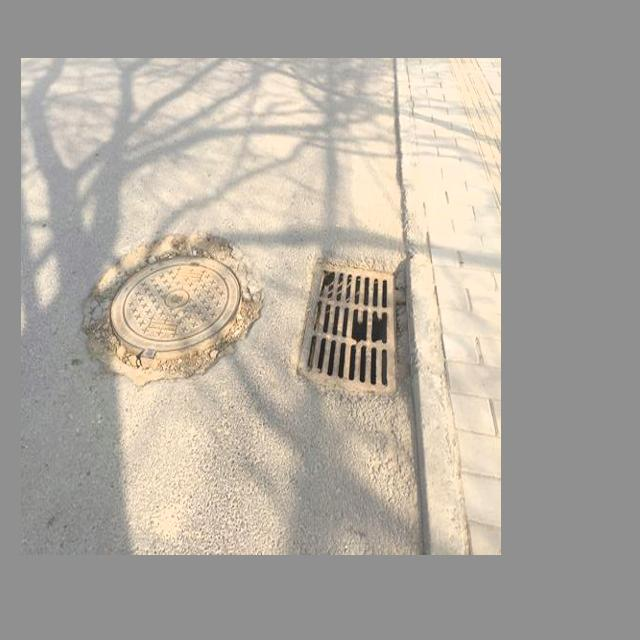circle: (81, 219, 268, 391)
